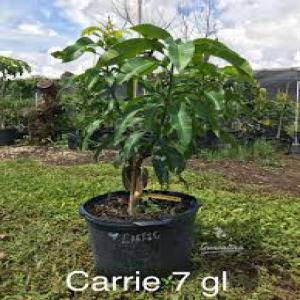Tree: (49, 26, 260, 282)
